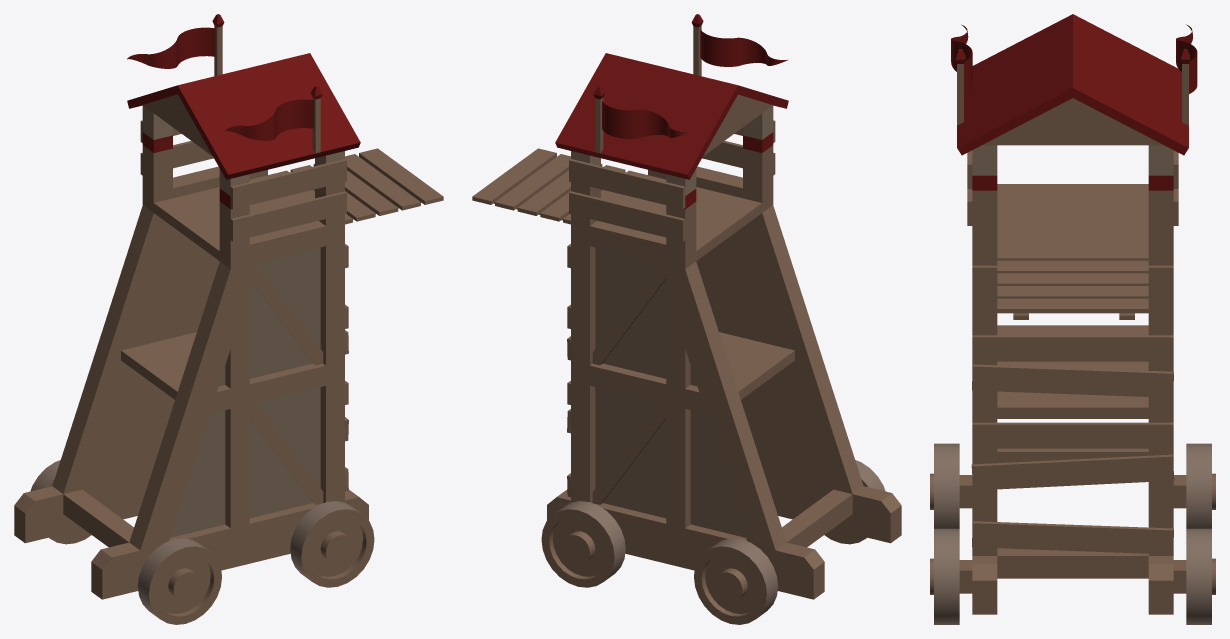
The model's file is cs_siege_tower.glb.
The picture shows the model from 3 angles, left to right: view 1: azimuth 30°, elevation 25°; view 2: azimuth 150°, elevation 25°; view 3: azimuth 270°, elevation 25°; orthographic projection. The views are drawn at different scales.
Visible parts, largest first — view 1: cs_siege_tower2; view 2: cs_siege_tower2; view 3: cs_siege_tower2.
Boxes of the visible parts, x1,y1,x2,y2 form: cs_siege_tower2: (14, 14, 443, 624); cs_siege_tower2: (472, 14, 901, 624); cs_siege_tower2: (930, 14, 1215, 624).
Bounding box in the file's own units: 5.66 × 7.5 × 3.44.
